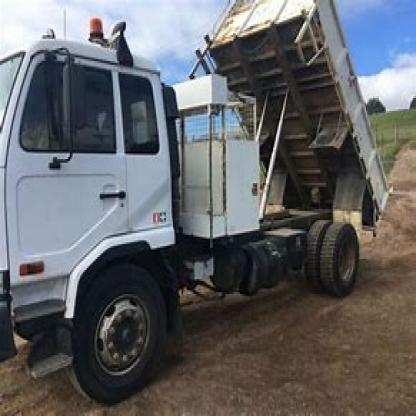dump_truck: (2, 4, 393, 396)
